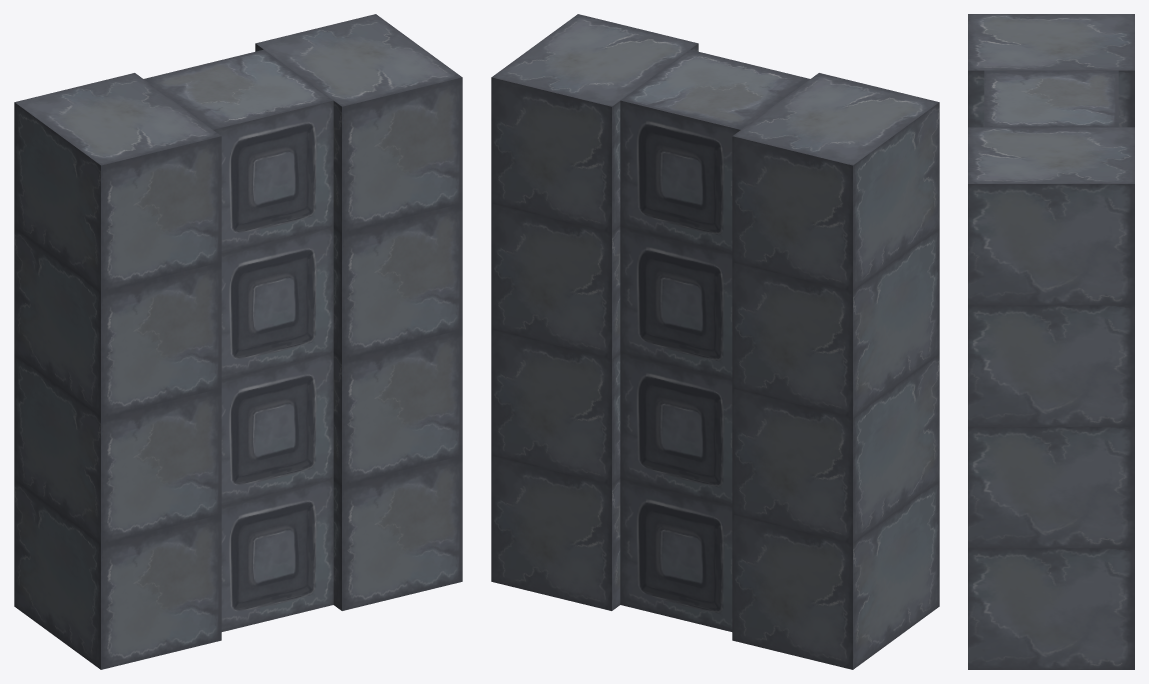
The model's file is Castle Deco Pilar Wide 4.fbx.
3 renders of one model, left to right at view 1: azimuth 30°, elevation 25°; view 2: azimuth 150°, elevation 25°; view 3: azimuth 270°, elevation 25°, orthographic. The views are drawn at different scales.
Visible parts, largest first — view 1: Castle Deco Pilar Wide 4; view 2: Castle Deco Pilar Wide 4; view 3: Castle Deco Pilar Wide 4.
Part boxes in pixels (x1=…): Castle Deco Pilar Wide 4: x1=14, y1=14, x2=462, y2=669; Castle Deco Pilar Wide 4: x1=491, y1=14, x2=939, y2=669; Castle Deco Pilar Wide 4: x1=968, y1=14, x2=1134, y2=669.
Size of the model in its own units: 2.25 by 3 by 0.9335.
